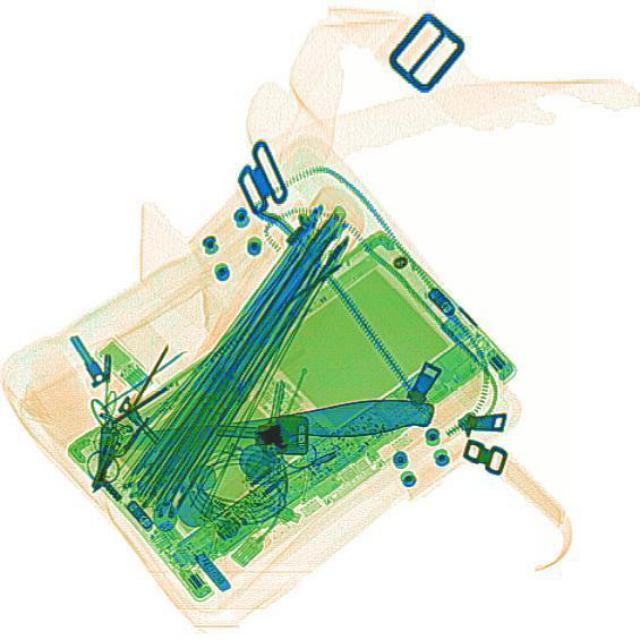Knife: (99, 394, 434, 454)
